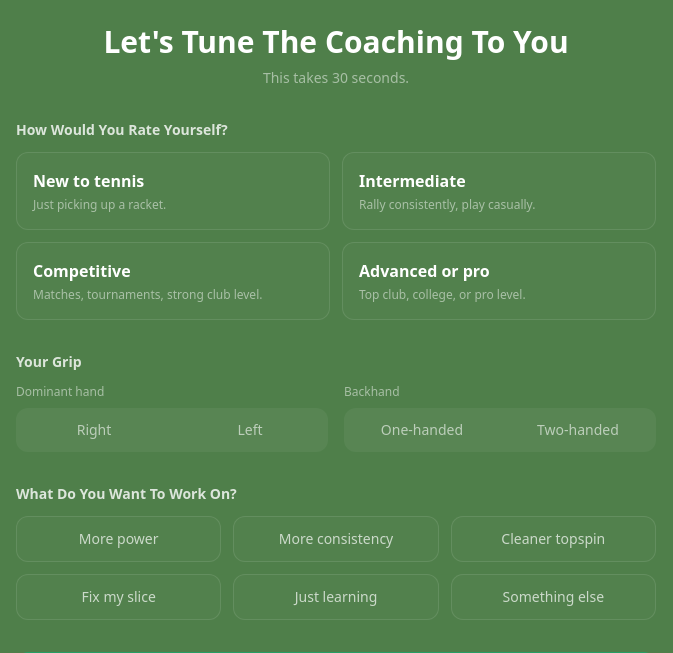
Test case: OnboardingPage › submit is disabled until all 3 sections are picked
Expected: the heading "How Would You Rate Yourself?" is shown, [16, 120, 228, 139]
What coordinates should you click on to do the following:
click the text "Intermediate"
I would click on:
 (412, 181)
Its box is [359, 170, 466, 192].
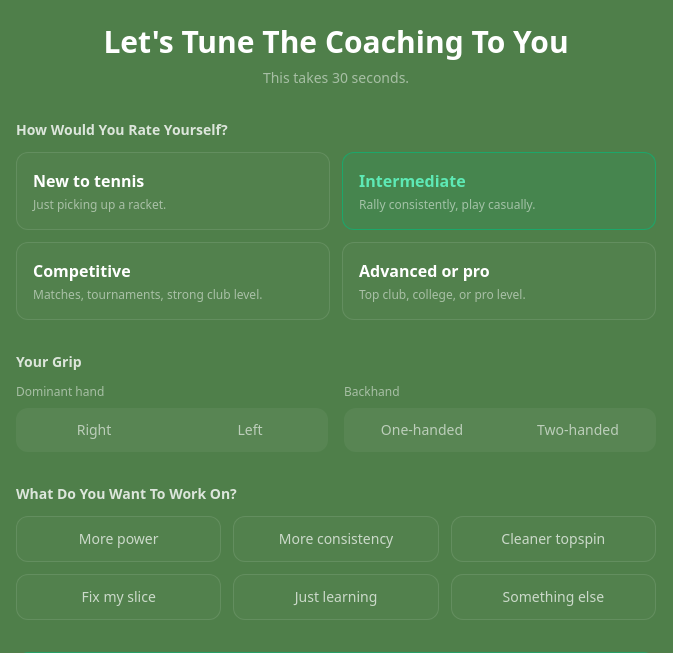
What coordinates should you click on to do the following:
click the button "Right"
I would click on:
 (94, 430)
Its box is [20, 412, 168, 448].
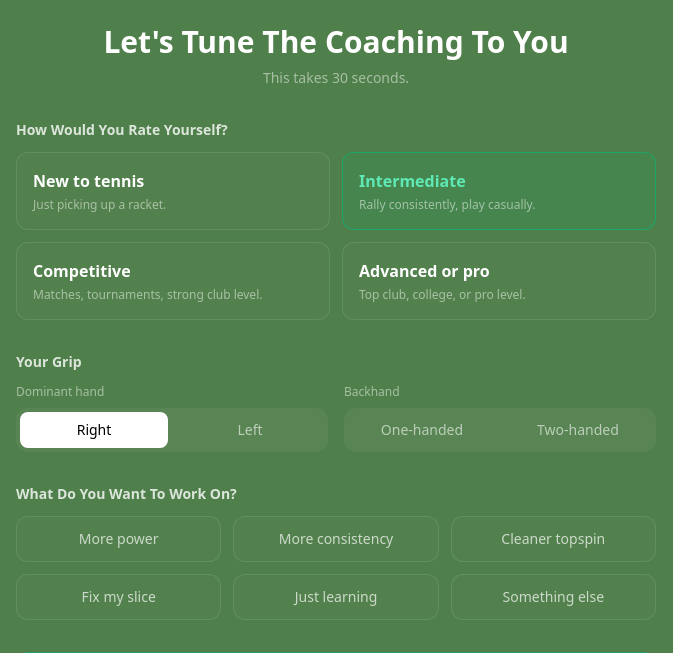
What coordinates should you click on to do the following:
click the button "Two-handed"
I would click on:
 (578, 430)
Its box is [504, 412, 652, 448].
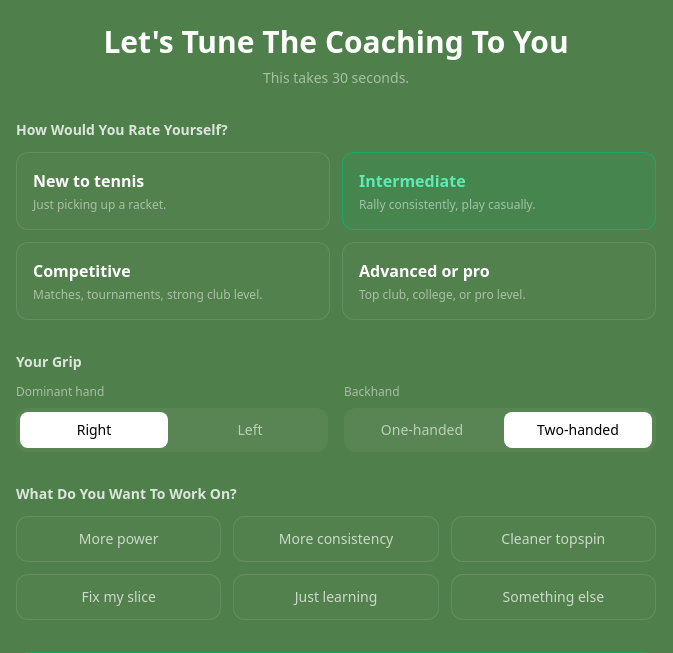
What coordinates should you click on to do the following:
click the button "More power"
I would click on:
 (119, 539)
Its box is [16, 516, 221, 562].
(page scrolled)
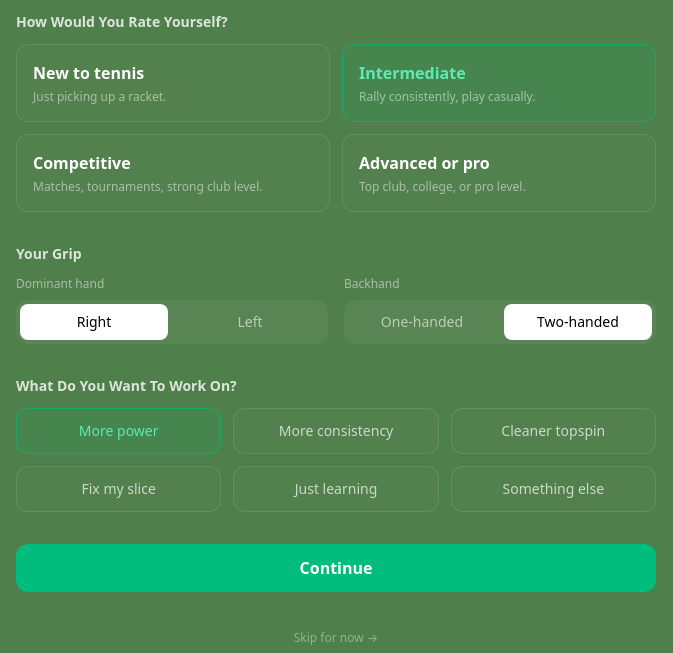
Result: the button "Continue" is enabled at [16, 544, 656, 592]
